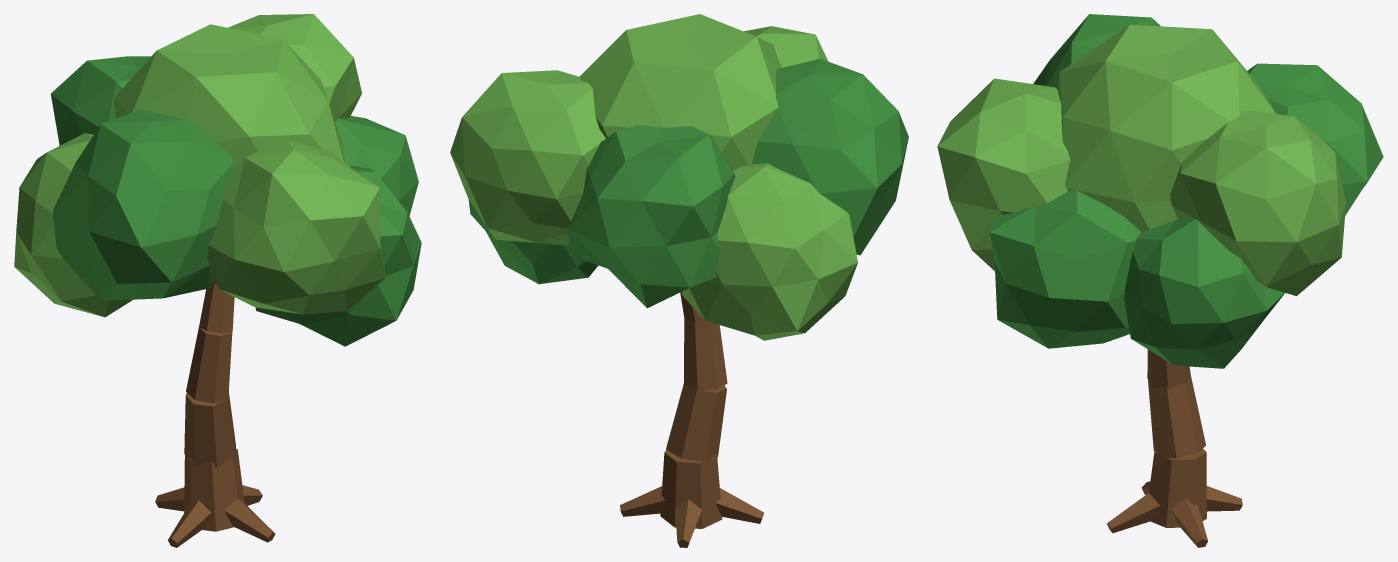
Rendered from nat_oak_b_v01.glb.
The picture shows the model from 3 angles, left to right: view 1: azimuth 30°, elevation 25°; view 2: azimuth 150°, elevation 25°; view 3: azimuth 270°, elevation 25°; orthographic projection.
Visible parts, largest first — view 1: tree; view 2: tree; view 3: tree.
Boxes of the visible parts, box(x1,y1,x2,y2) form: tree: box(14, 14, 421, 547); tree: box(450, 14, 908, 547); tree: box(937, 14, 1383, 547).
Bounding box in the file's own units: 5.46 × 6.56 × 5.58.
